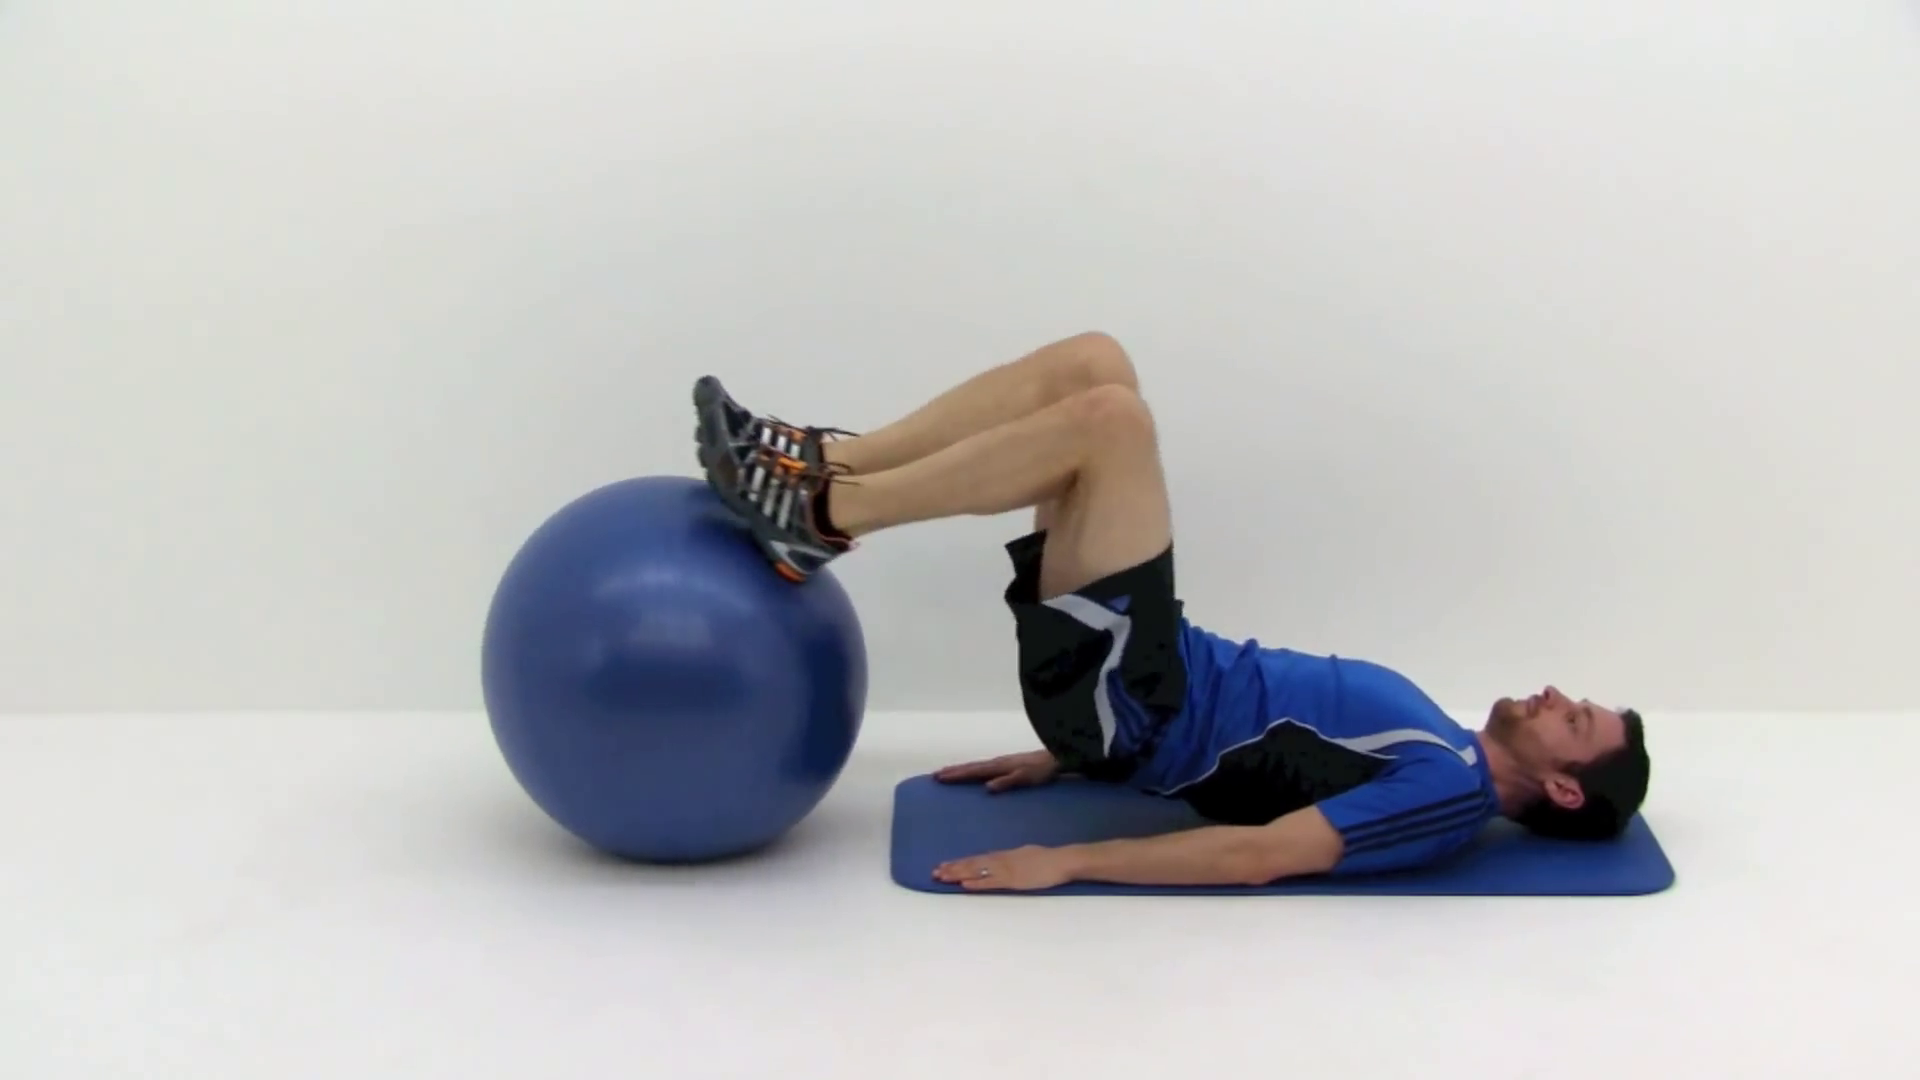yogaball: (465, 465, 873, 889)
